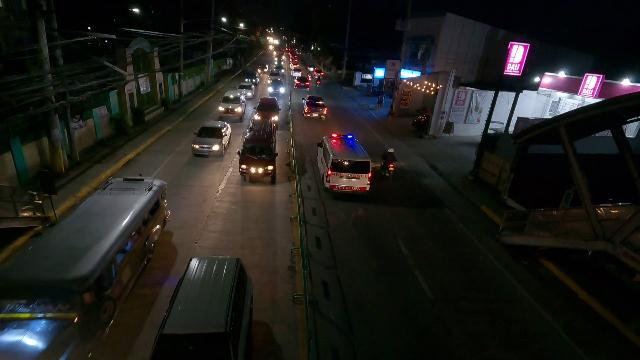car: (147, 255, 252, 360), (190, 118, 232, 158), (252, 96, 281, 131), (218, 90, 246, 120), (236, 82, 256, 101), (268, 77, 286, 95), (242, 69, 260, 87), (293, 75, 309, 90), (257, 63, 269, 76), (273, 63, 285, 75), (291, 67, 303, 78), (313, 68, 324, 80), (306, 65, 317, 73), (290, 61, 299, 70)
jeepney: (0, 173, 168, 360)
motorcycle: (380, 146, 398, 181), (315, 74, 321, 88), (307, 70, 312, 82)
pickup-truck: (301, 95, 329, 121)
van: (315, 134, 373, 198), (237, 117, 280, 184)
